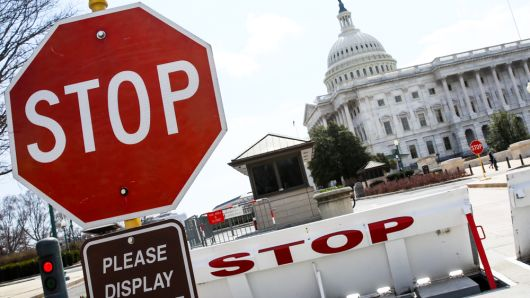stopsign: (12, 4, 222, 221)
